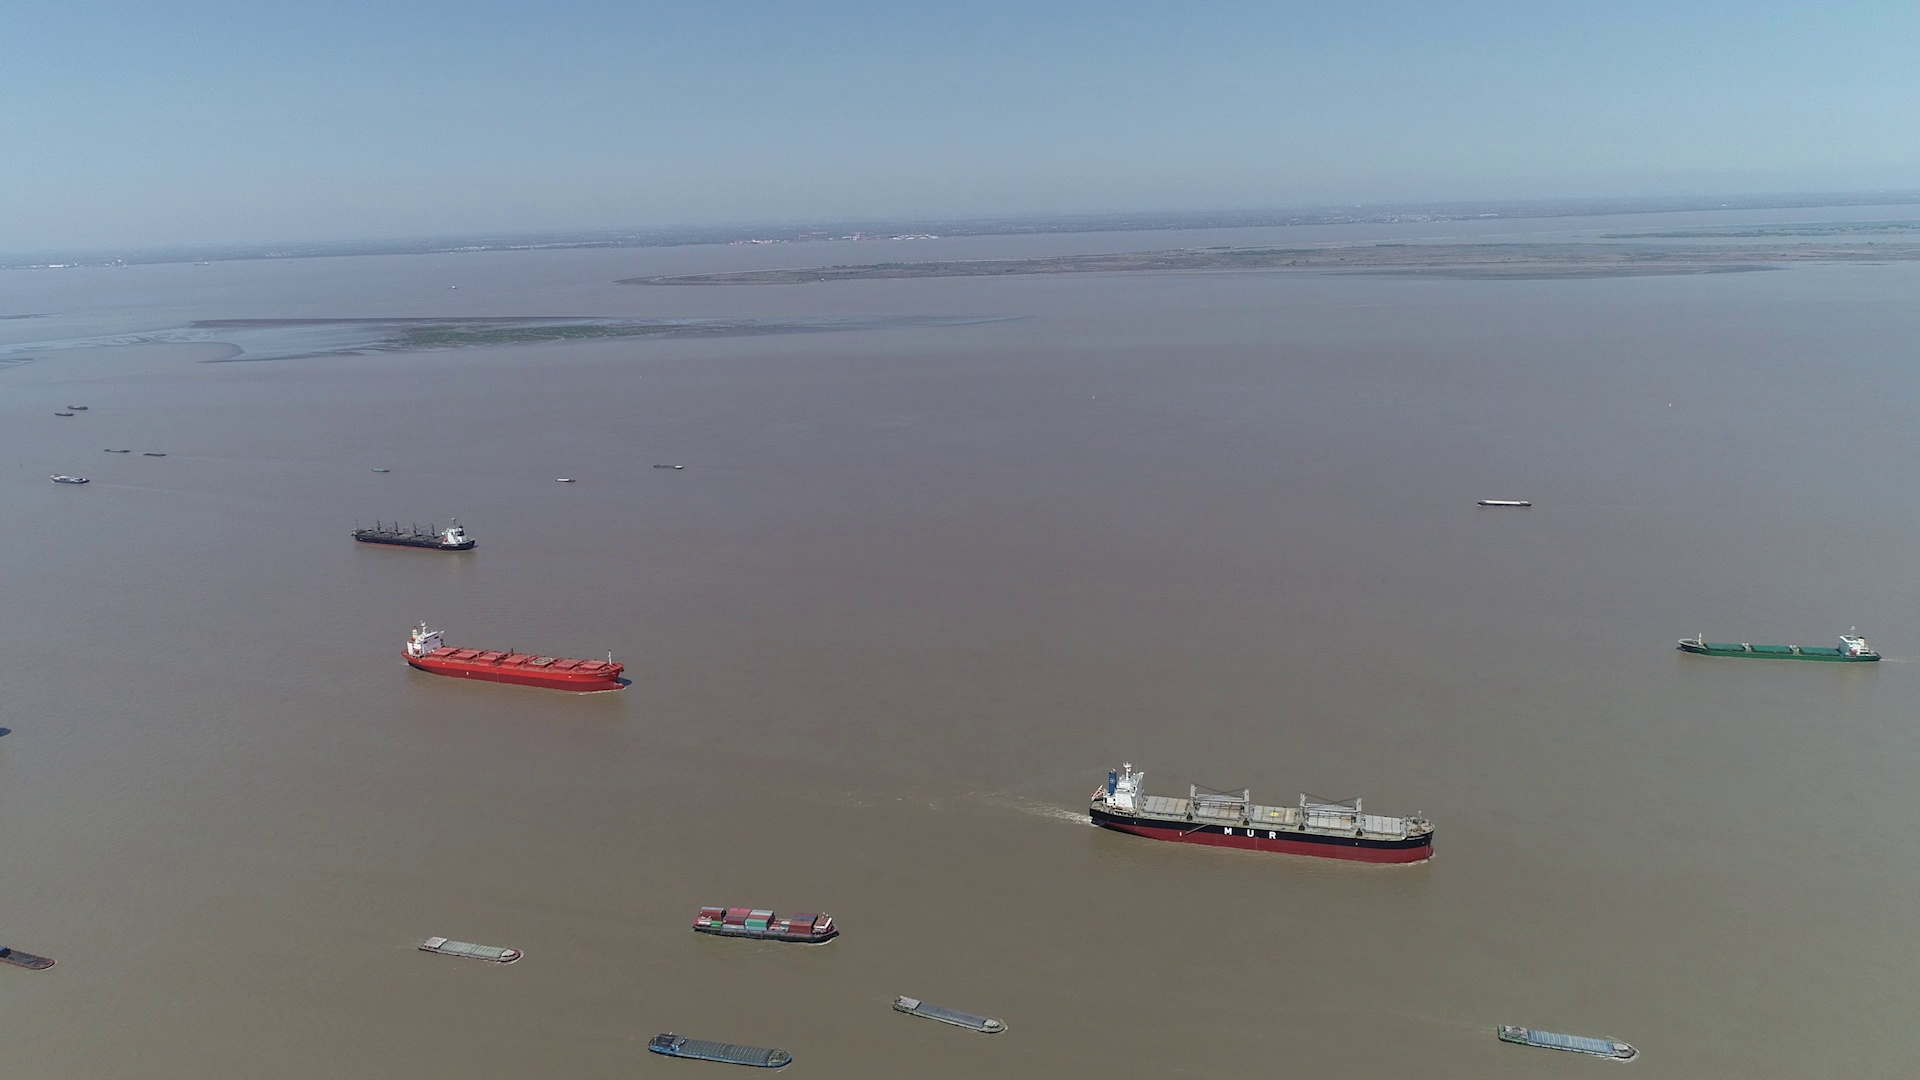ship: (1091, 765, 1433, 862), (402, 622, 624, 692), (1677, 629, 1878, 662), (649, 1033, 794, 1069), (694, 906, 840, 942), (1497, 1025, 1635, 1062), (891, 996, 1005, 1036), (351, 517, 477, 550), (419, 935, 521, 963), (0, 942, 55, 971), (1480, 500, 1531, 509), (49, 473, 90, 484)
